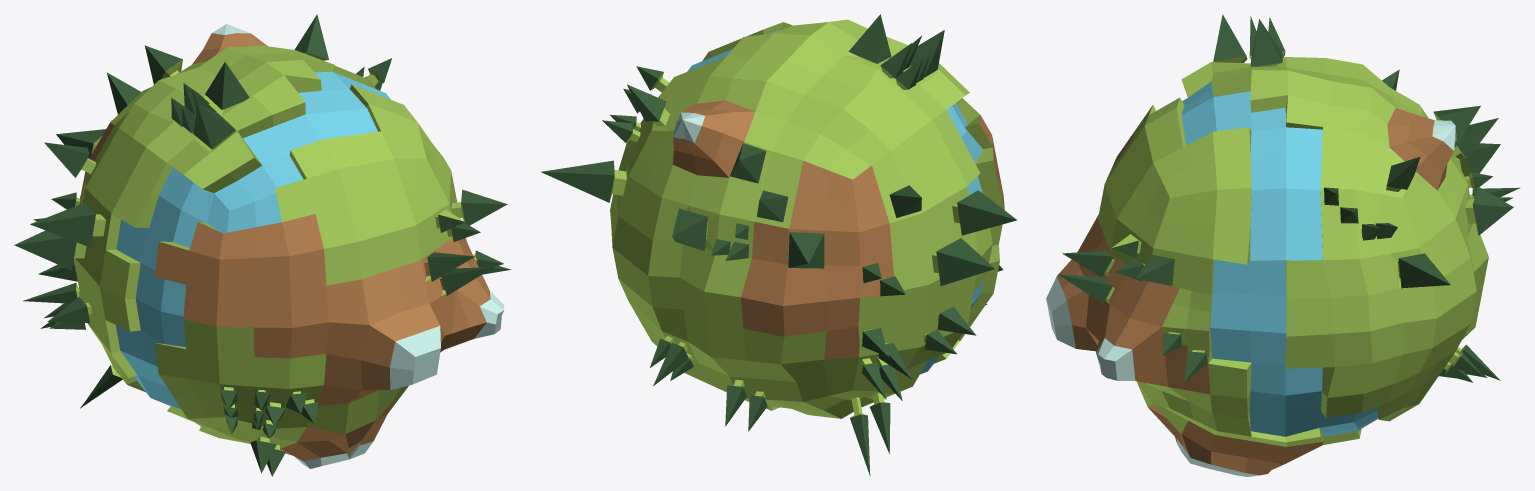
The model's file is Earth2.fbx.
3 renders of one model, left to right at view 1: azimuth 30°, elevation 25°; view 2: azimuth 150°, elevation 25°; view 3: azimuth 270°, elevation 25°, orthographic.
Visible parts, largest first — view 1: Earth; view 2: Earth; view 3: Earth.
Part boxes in pixels (x1,y1,x2,y2): Earth: (14,14,511,476); Earth: (541,14,1017,476); Earth: (1046,14,1520,476).
Bounding box in the file's own units: 207 × 196 × 204.
